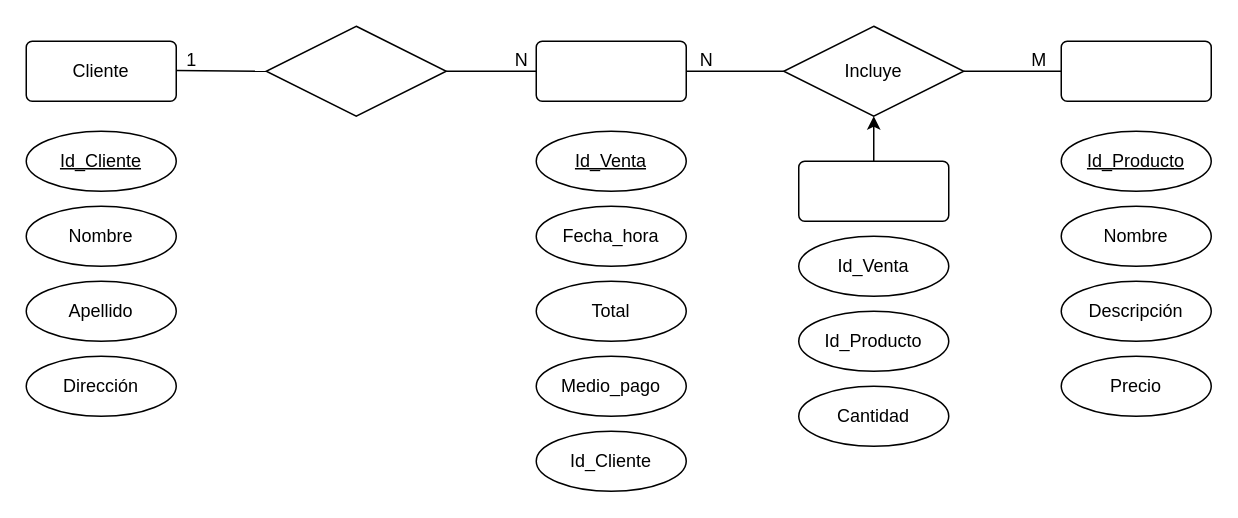
The diagram is 1238 pixels wide and 518 high, and some of its shapes have lost their labels. The shapes that lost their labels are listed below. From the top down, each one's centre as x and y in pixels, then its label:
(x=355, y=70): Realiza
(x=610, y=70): Venta
(x=1135, y=70): Producto
(x=873, y=190): Detalle Venta
